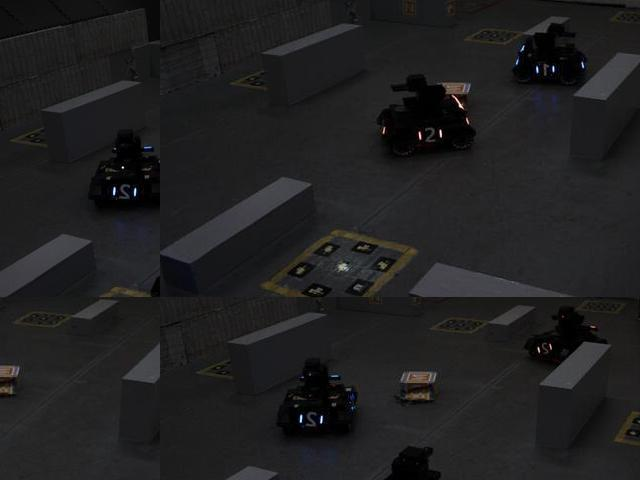armor: (108, 180, 144, 204), (297, 407, 328, 432), (412, 123, 449, 143), (535, 337, 556, 361), (534, 61, 560, 78)
